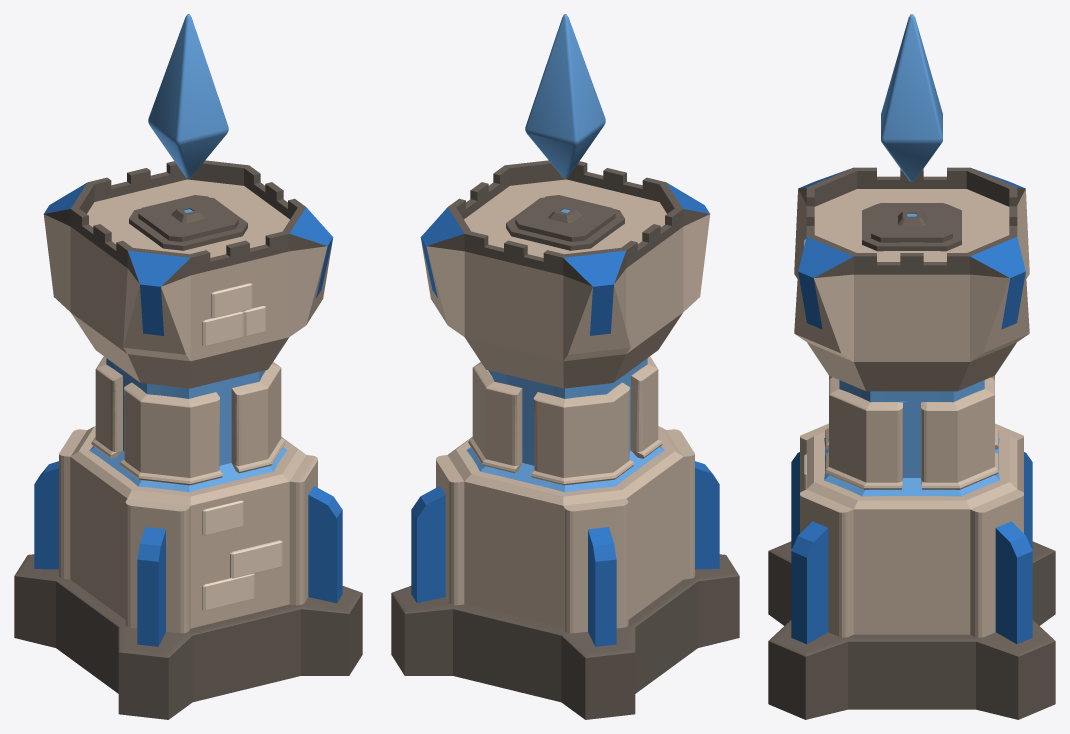
The model's file is Tower_Mage001.fbx.
3 views of the same model, side by side, from view 1: azimuth 30°, elevation 25°; view 2: azimuth 150°, elevation 25°; view 3: azimuth 270°, elevation 25° (orthographic). The views are drawn at different scales.
Parts seen in each view (by area): view 1: Tower_base, Crystal; view 2: Tower_base, Crystal; view 3: Tower_base, Crystal.
Boxes of the visible parts, x1,y1,x2,y2 form: Tower_base: (14, 160, 362, 719); Crystal: (148, 14, 228, 178); Tower_base: (391, 160, 739, 719); Crystal: (525, 14, 605, 178); Tower_base: (768, 167, 1055, 719); Crystal: (881, 14, 942, 181).
Bounding box in the file's own units: 269 × 667 × 269.
